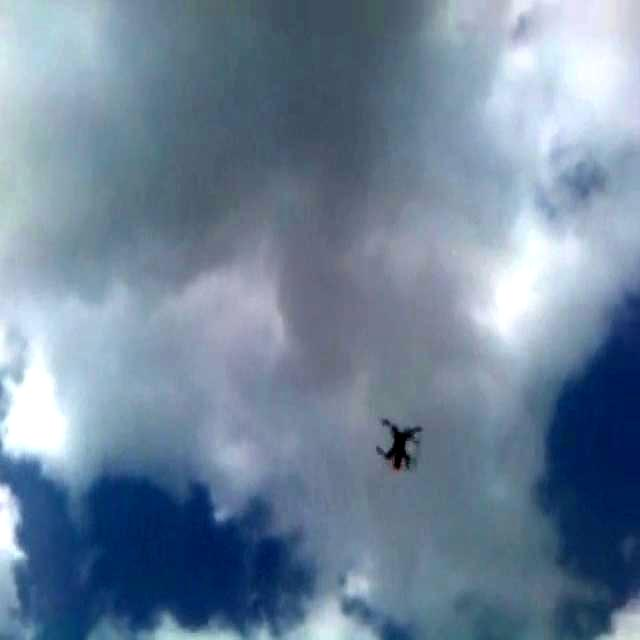drone: (372, 413, 425, 475)
